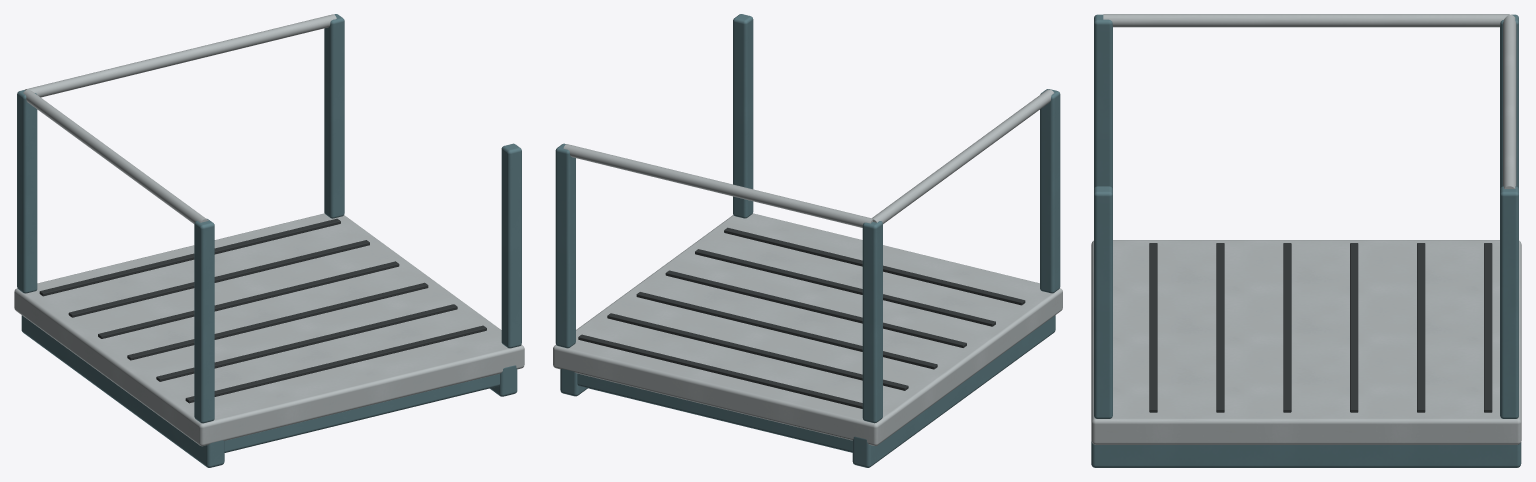
Rendered from gorgehold-survivor-gallery-and-operations-cantilever-w-a2c3368d__32876.glb.
The picture shows the model from 3 angles, left to right: view 1: azimuth 30°, elevation 25°; view 2: azimuth 150°, elevation 25°; view 3: azimuth 270°, elevation 25°; orthographic projection. The views are drawn at different scales.
Visible parts, largest first — view 1: cantilever-walkway-inside-corner; view 2: cantilever-walkway-inside-corner; view 3: cantilever-walkway-inside-corner.
Boxes of the visible parts, x1,y1,x2,y2 form: cantilever-walkway-inside-corner: [14, 14, 524, 467]; cantilever-walkway-inside-corner: [553, 14, 1062, 467]; cantilever-walkway-inside-corner: [1091, 14, 1521, 467].
Bounding box in the file's own units: 1.8 × 1.3 × 1.8.
3 materials, 2 textured.
